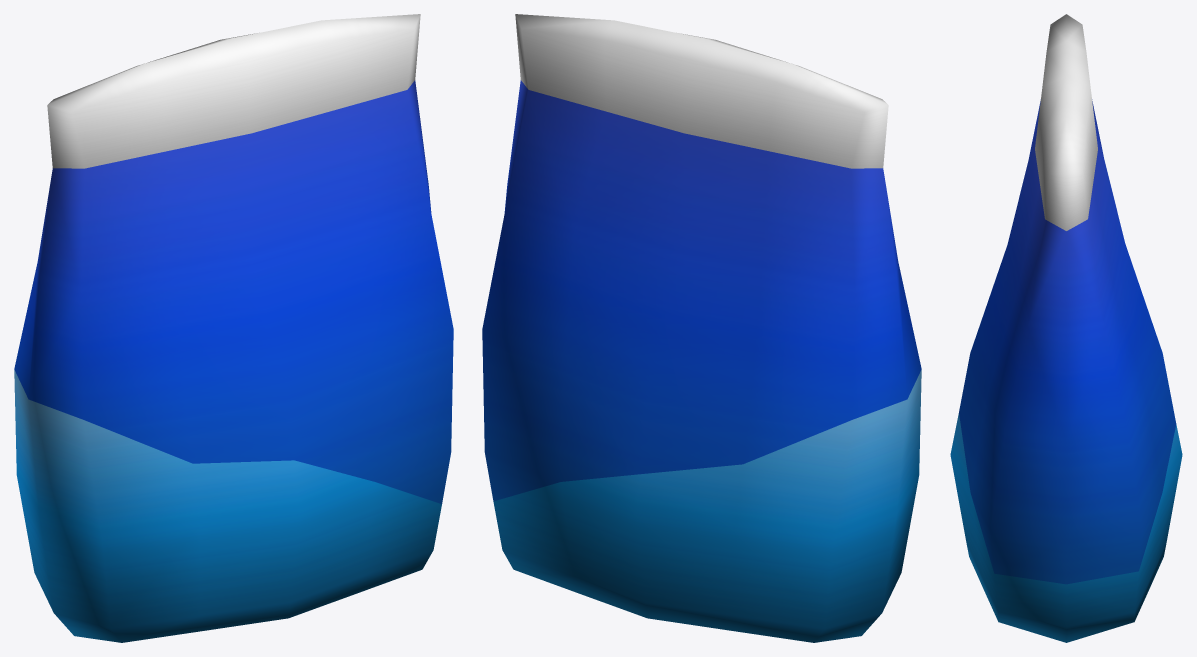
Rendered from SM_Snack_8.fbx.
3 renders of one model, left to right at view 1: azimuth 30°, elevation 25°; view 2: azimuth 150°, elevation 25°; view 3: azimuth 270°, elevation 25°, orthographic. The views are drawn at different scales.
Visible parts, largest first — view 1: SM_Snack_8; view 2: SM_Snack_8; view 3: SM_Snack_8.
Part boxes in pixels (left/top/right/bottom): SM_Snack_8: left=14, top=14, right=453, bottom=642; SM_Snack_8: left=482, top=14, right=921, bottom=642; SM_Snack_8: left=950, top=14, right=1182, bottom=642.
Bounding box in the file's own units: 17.81 × 23.26 × 9.79.
1 material, 1 textured.
